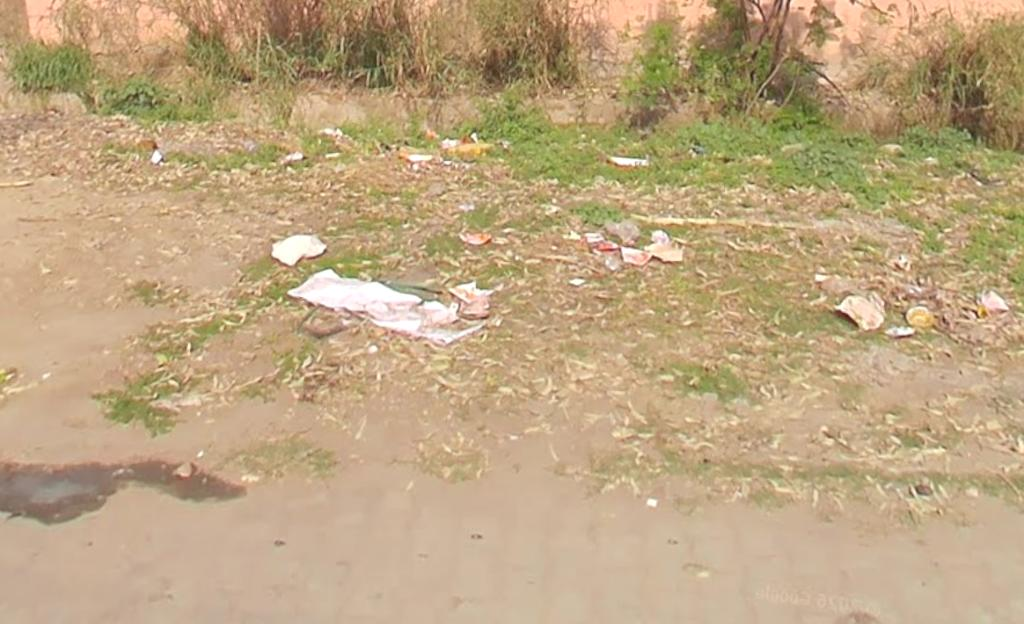garbage: (282, 263, 476, 345), (265, 225, 332, 269)
